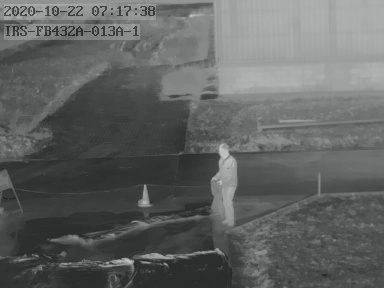person: (215, 141, 238, 224)
